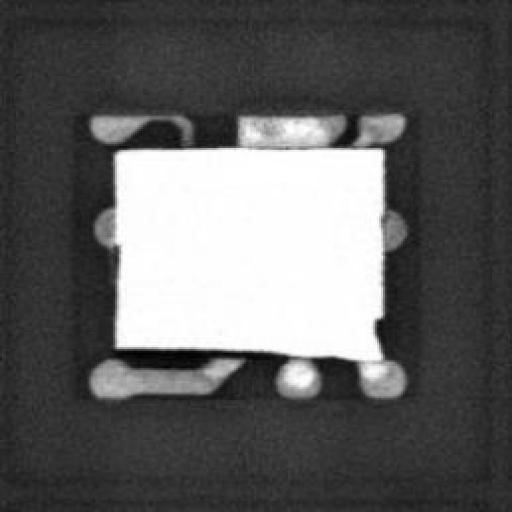DIE_BROKEN: (113, 338, 339, 362), (365, 313, 385, 349)
